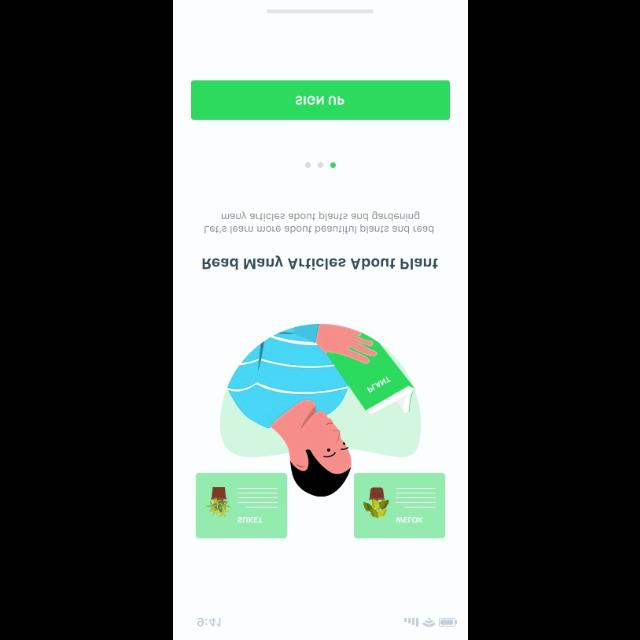image: (197, 324, 446, 538)
pageindicator: (305, 162, 337, 168)
text: (204, 210, 434, 234), (202, 254, 438, 270)
textbutton: (192, 80, 450, 120)
uppertaskbar: (197, 616, 457, 626)
